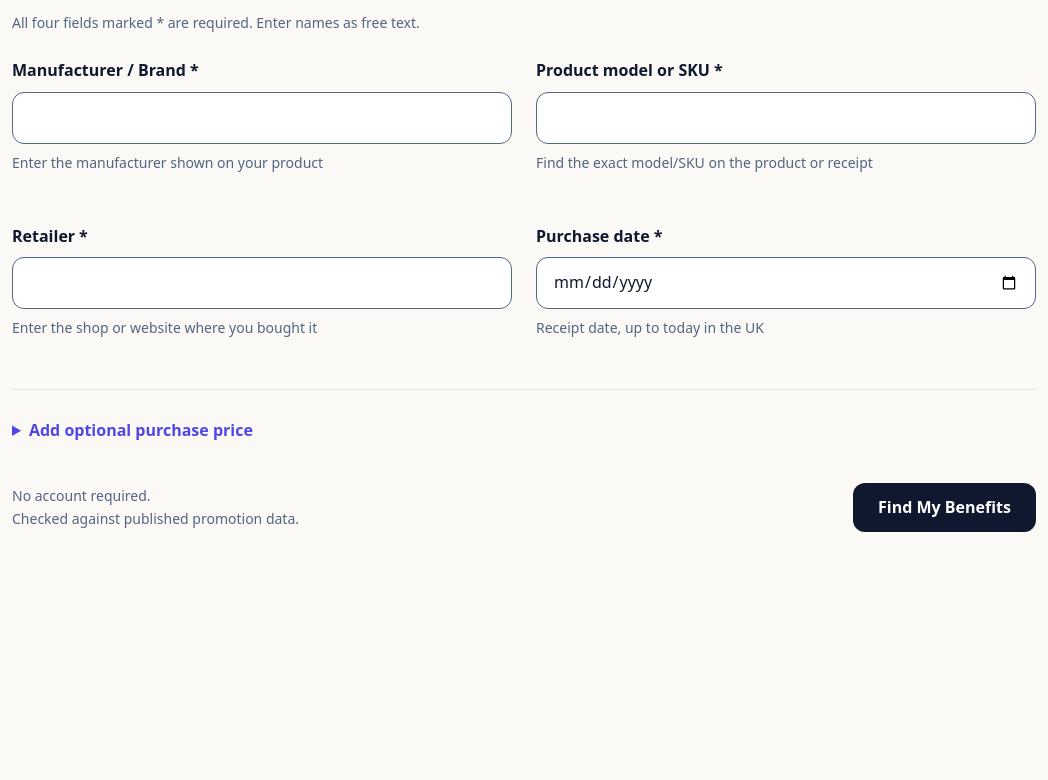
Test: counts NOT_ELIGIBLE records without promising benefits
The width and height of the screenshot is (1048, 780).
Type "Example" into the field labelled "Manufacturer / Brand". click: (262,118)
box: x1=12 y1=92 x2=512 y2=144
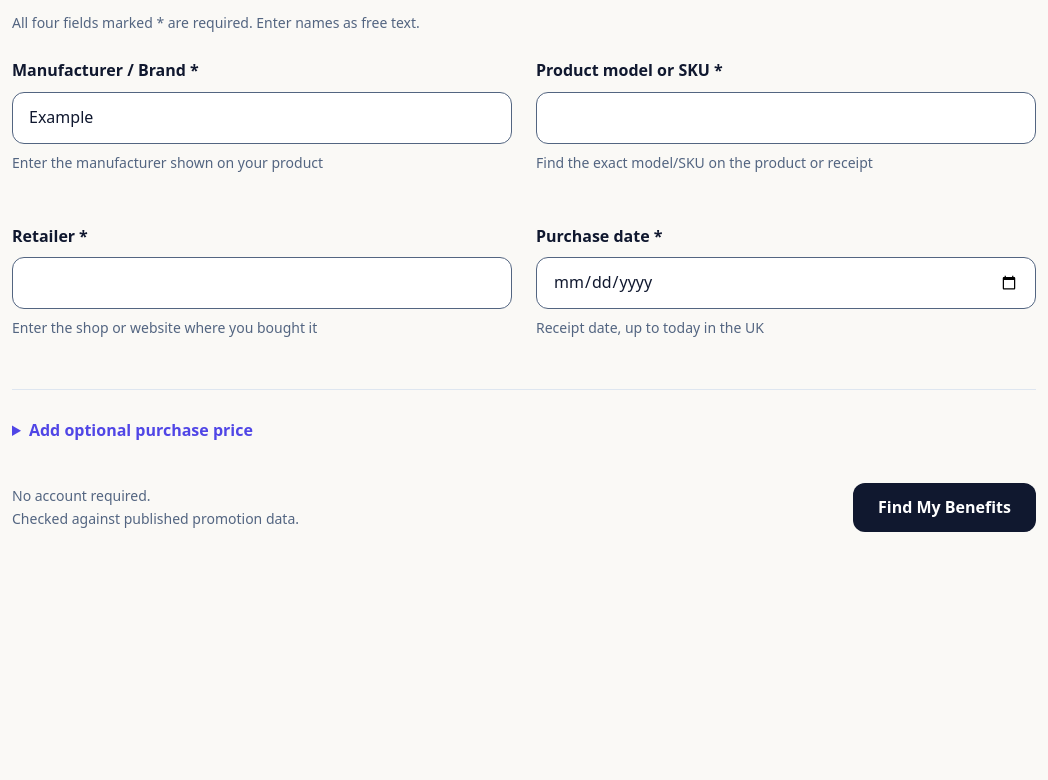
Type " SKU /-1 " into the field labelled "Product model or SKU". click: (786,118)
box: x1=536 y1=92 x2=1036 y2=144
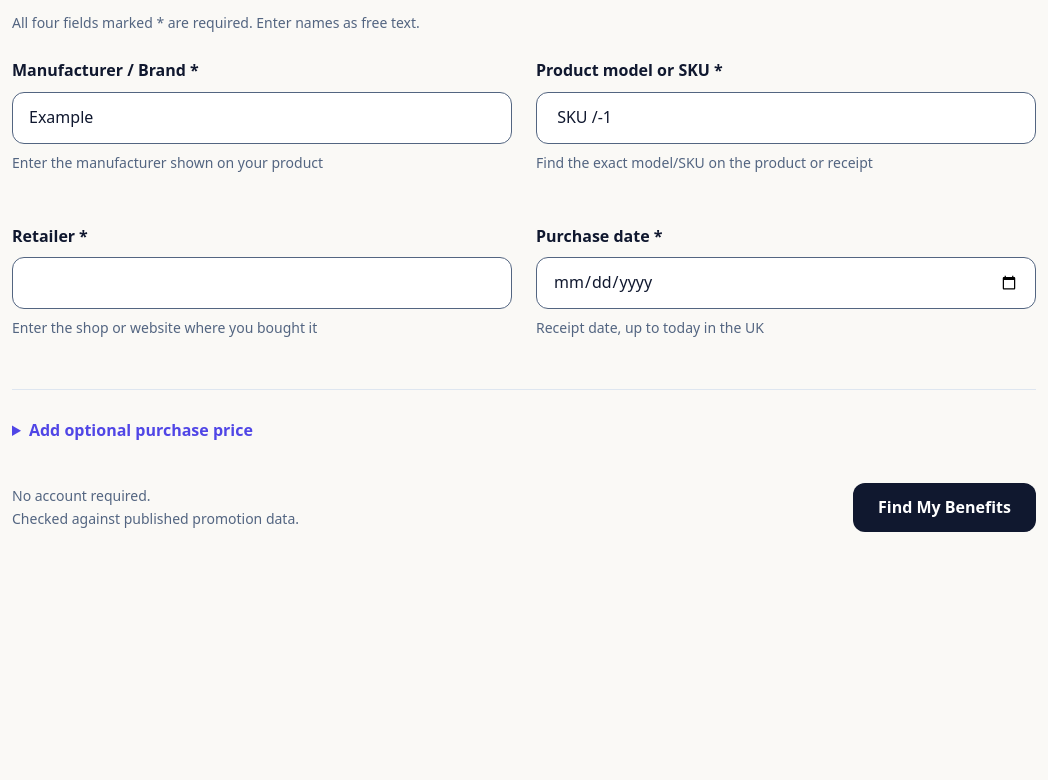
Type "Shop" into the field labelled "Retailer". click: (262,283)
box: x1=12 y1=257 x2=512 y2=309
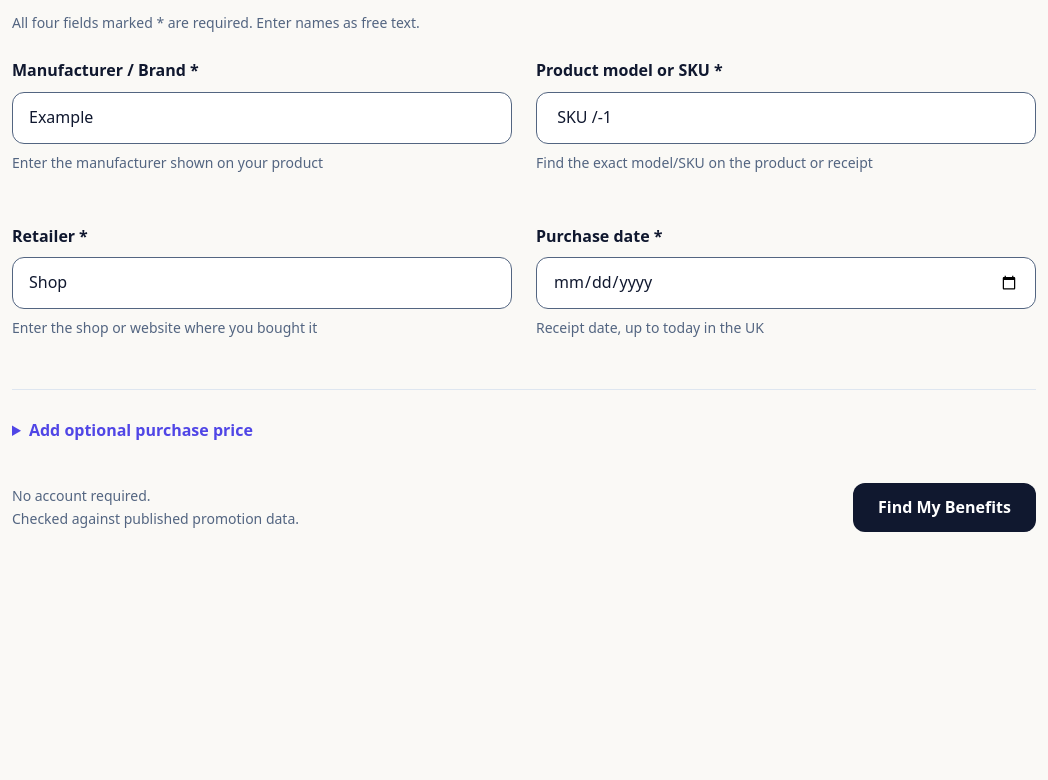
Type "2024-02-29" into the date field labelled "Purchase date". click: (786,283)
box: x1=536 y1=257 x2=1036 y2=309
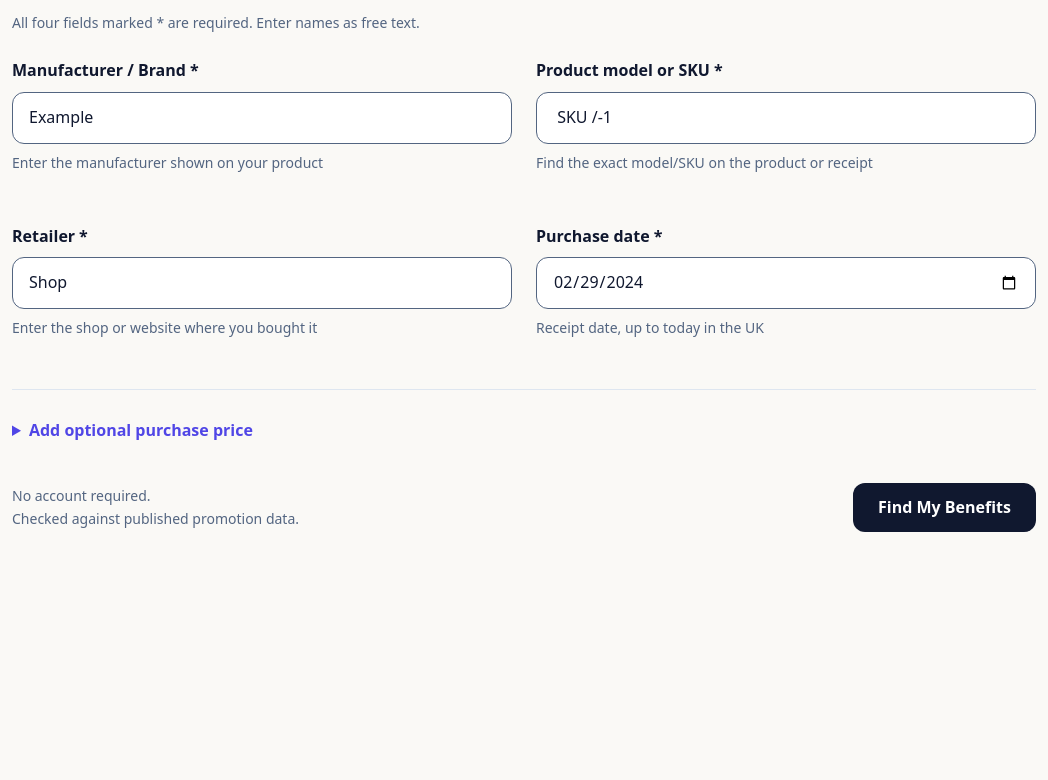
Submit the form
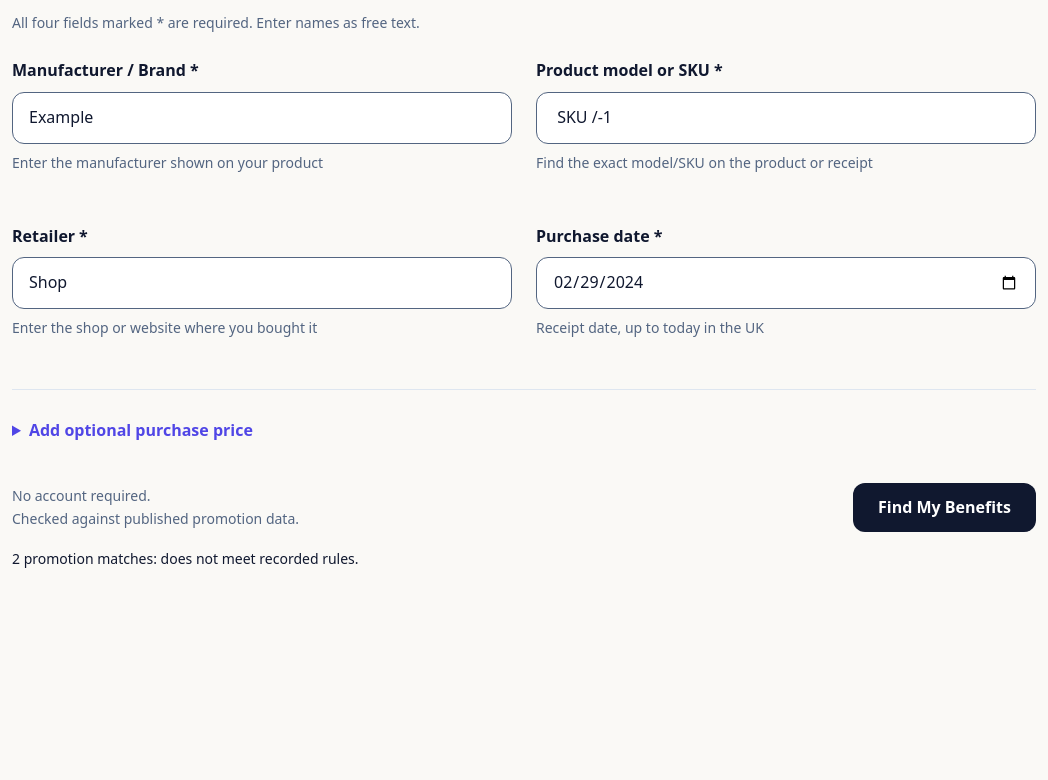
Expected: the message reads "2 promotion matches: does not meet recorded rules.", x1=12 y1=549 x2=358 y2=568
